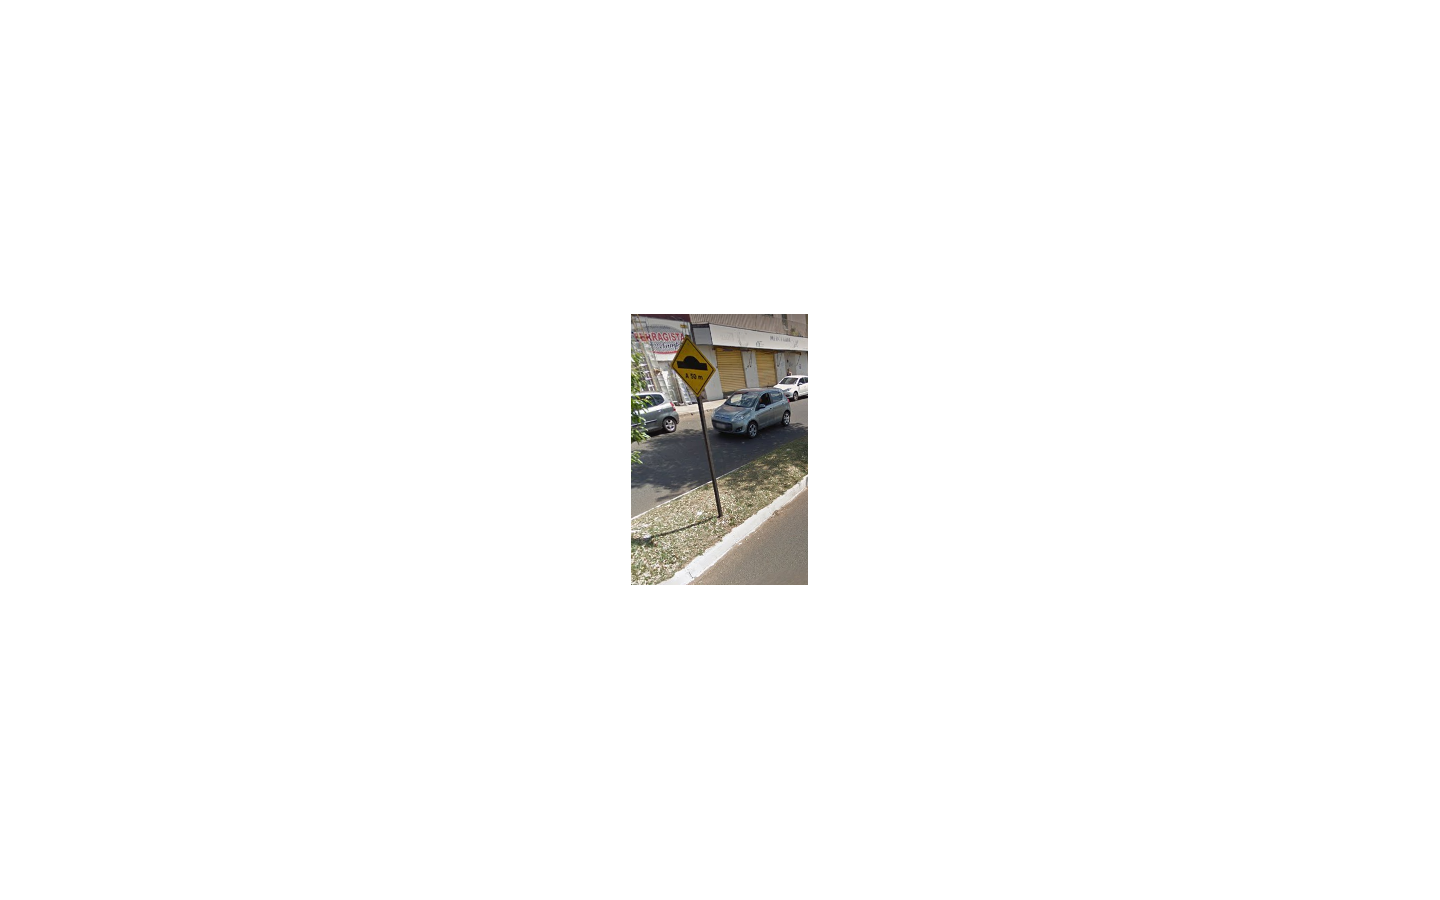l50m: (670, 337, 715, 396)
